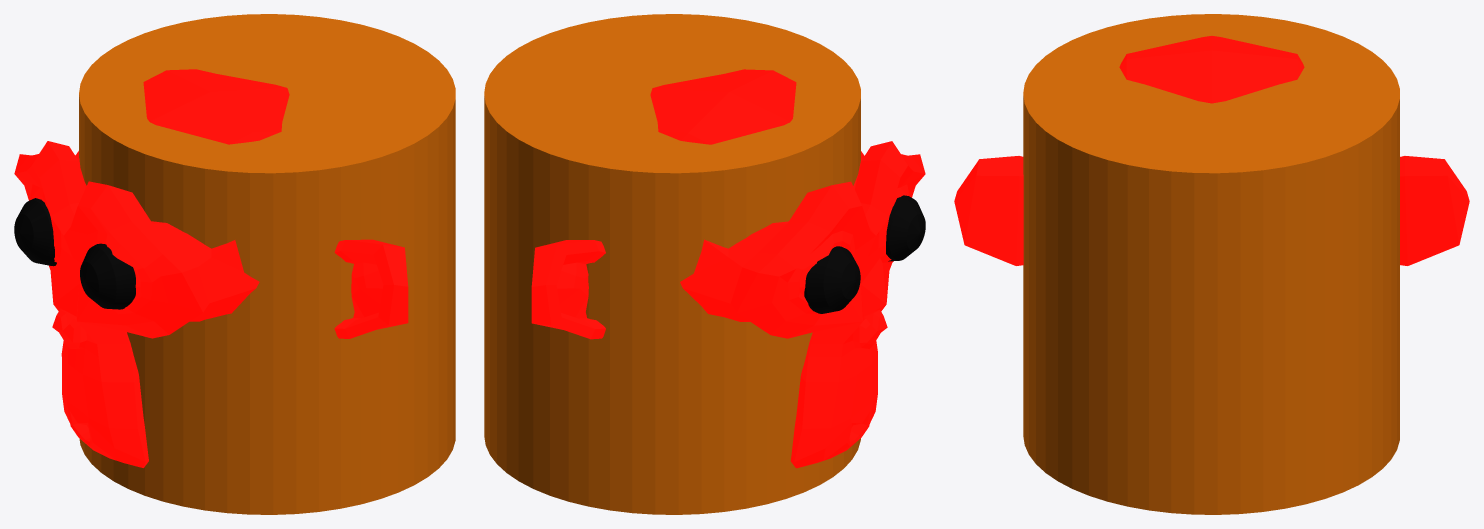
3 renders of one model, left to right at view 1: azimuth 30°, elevation 25°; view 2: azimuth 150°, elevation 25°; view 3: azimuth 270°, elevation 25°, orthographic.
Visible parts, largest first — view 1: 圓柱體, 蘇珊猴, Torus.005, Torus.003; view 2: 圓柱體, 蘇珊猴, Torus.003, Torus.005; view 3: 圓柱體, 蘇珊猴.
Boxes of the visible parts, left/top/right/bottom form: 圓柱體: left=79, top=14, right=455, bottom=514; 蘇珊猴: left=14, top=69, right=408, bottom=467; Torus.005: left=80, top=243, right=135, bottom=309; Torus.003: left=14, top=198, right=56, bottom=266; 圓柱體: left=484, top=14, right=860, bottom=514; 蘇珊猴: left=531, top=69, right=925, bottom=468; Torus.003: left=804, top=246, right=860, bottom=313; Torus.005: left=886, top=195, right=925, bottom=261; 圓柱體: left=1023, top=14, right=1399, bottom=514; 蘇珊猴: left=954, top=36, right=1469, bottom=265.
Size of the model in its own units: 2.32 by 2.09 by 2.73.
